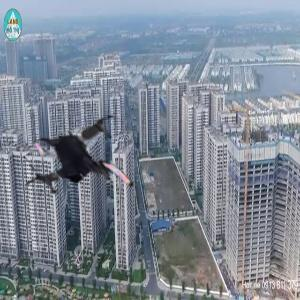drone: (19, 104, 152, 237)
